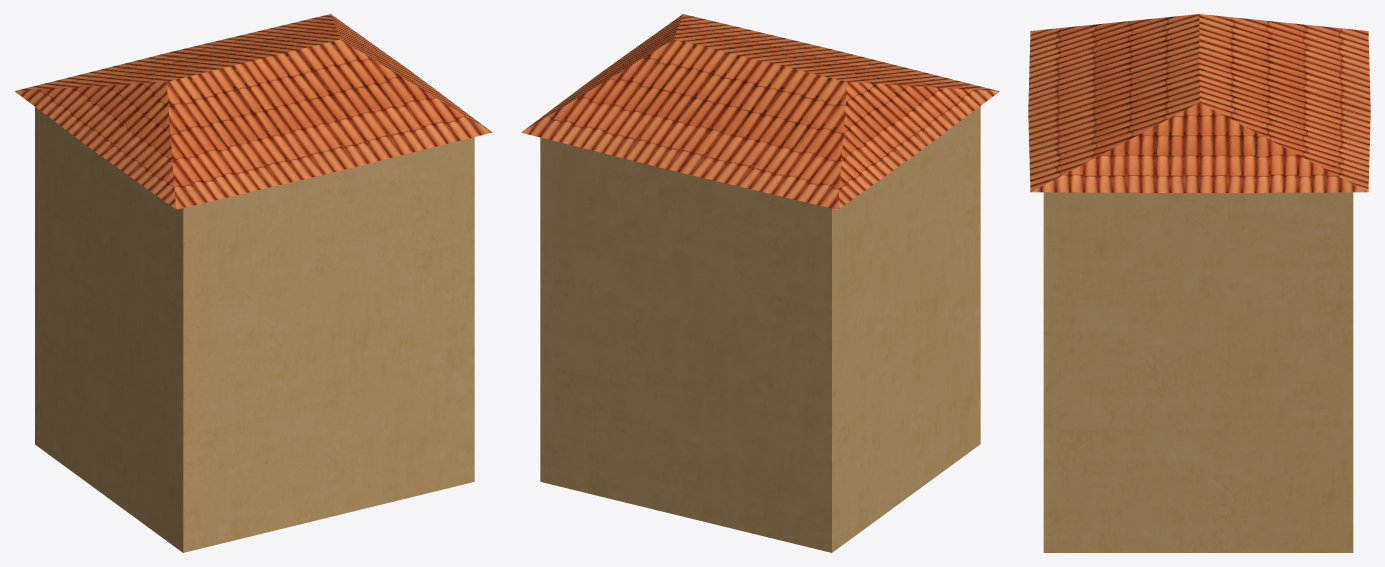
Rendered from House_Far_01.fbx.
The picture shows the model from 3 angles, left to right: view 1: azimuth 30°, elevation 25°; view 2: azimuth 150°, elevation 25°; view 3: azimuth 270°, elevation 25°; orthographic projection. The views are drawn at different scales.
Visible parts, largest first — view 1: House_Far_01; view 2: House_Far_01; view 3: House_Far_01.
Part boxes in pixels (x1=…): House_Far_01: x1=14, y1=14, x2=492, y2=552; House_Far_01: x1=521, y1=14, x2=999, y2=552; House_Far_01: x1=1028, y1=14, x2=1370, y2=552.
Size of the model in its own units: 5.8 by 6.97 by 5.15.
